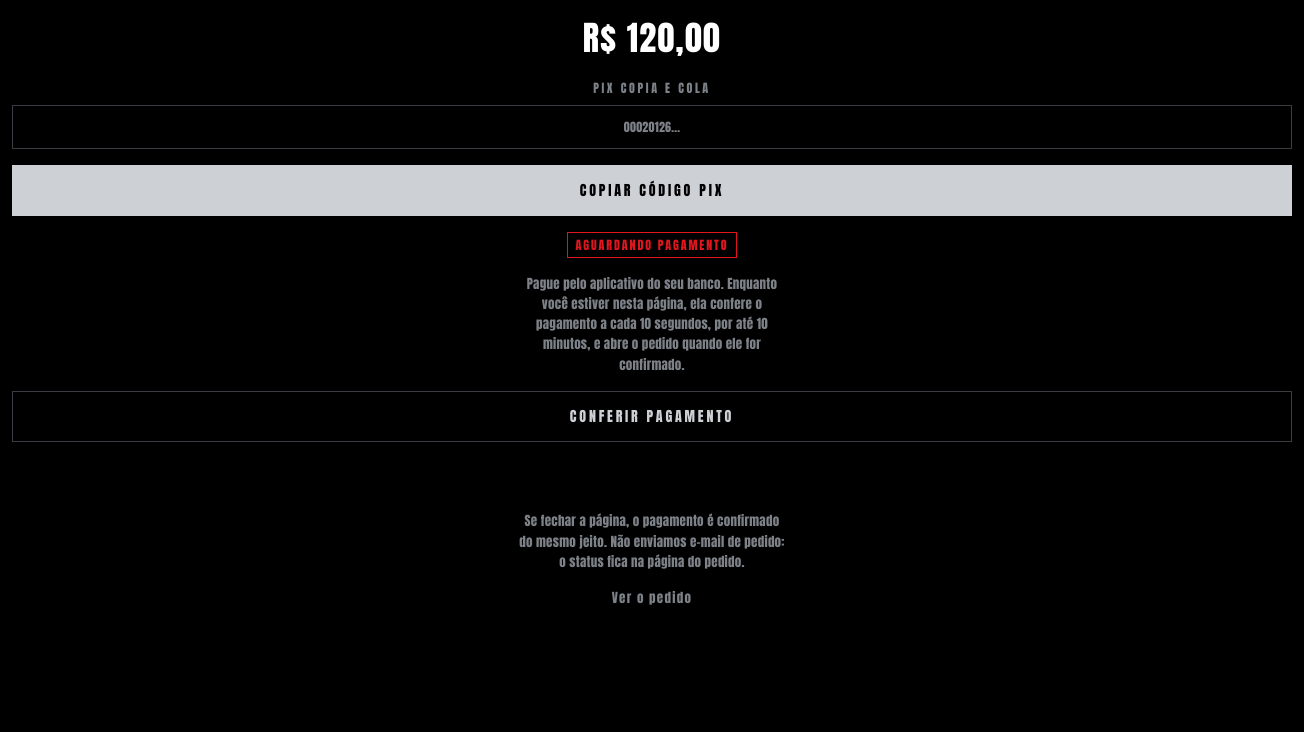
Test: o botao Conferir pagamento › limite: avisa como alerta e o QR fica
Click the button "Conferir pagamento" at (652, 416), box x1=12 y1=391 x2=1292 y2=442
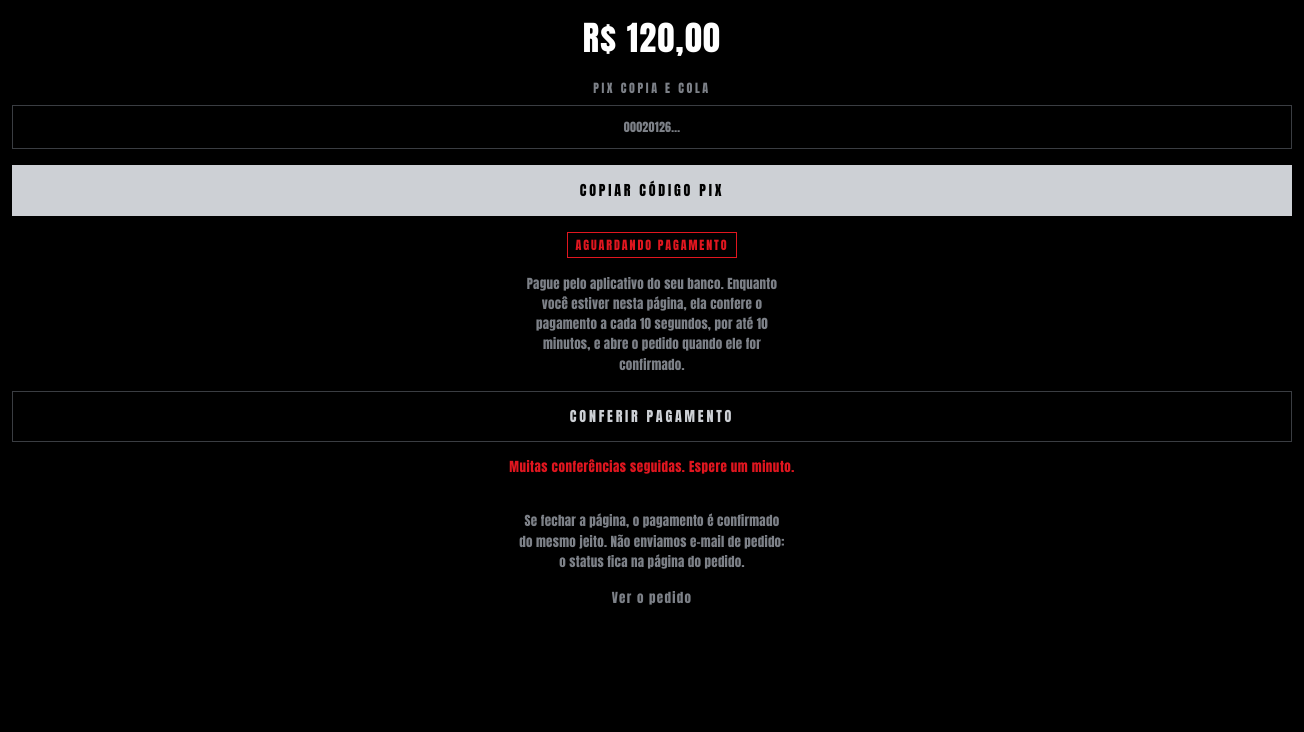
Expected: the field labelled "Pix copia e cola" is shown, x1=12 y1=105 x2=1292 y2=149
Result: the message "Muitas conferências seguidas. Espere um minuto." is shown at x1=509 y1=458 x2=795 y2=476
